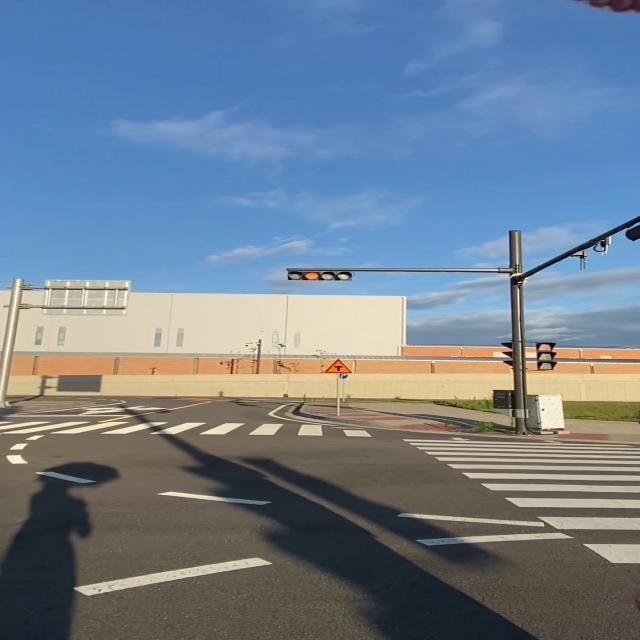yellow_light: (287, 268, 356, 281)
